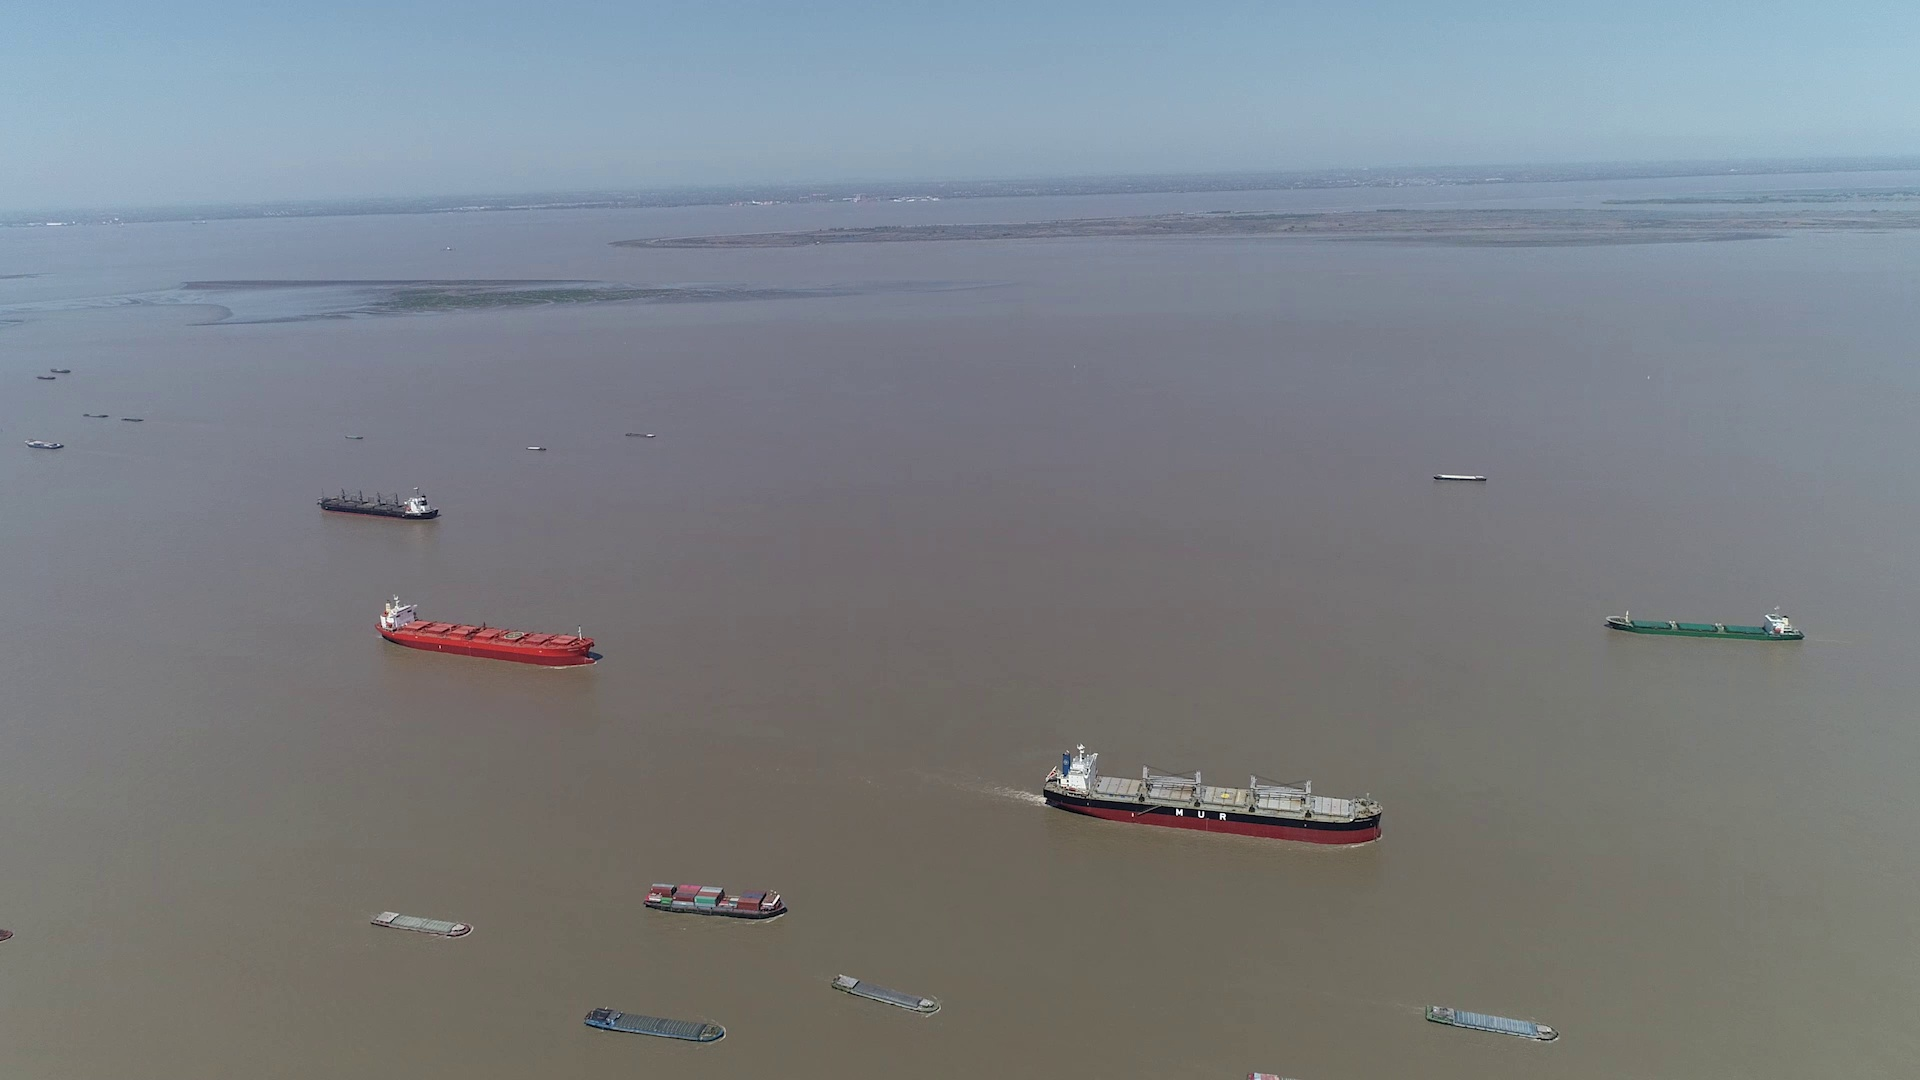ship: (1044, 746, 1383, 847), (377, 593, 597, 666), (1609, 607, 1807, 640), (642, 881, 787, 919), (585, 1007, 727, 1044), (1427, 1004, 1557, 1042), (831, 975, 940, 1015), (316, 487, 439, 521), (372, 910, 471, 938), (1432, 473, 1486, 483), (25, 438, 63, 448), (521, 444, 546, 452)
